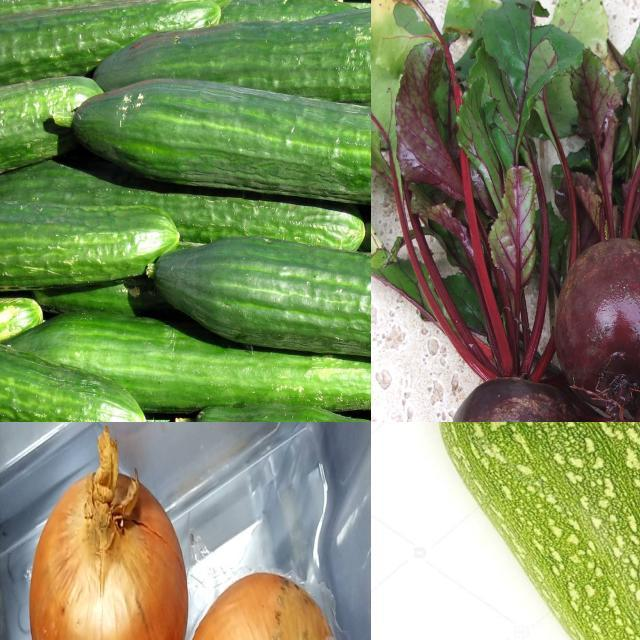beet: (550, 238, 640, 393), (449, 376, 575, 423)
cucumber: (65, 77, 372, 212), (151, 236, 372, 377), (90, 17, 372, 103), (1, 198, 185, 292), (1, 336, 147, 423)
onion: (30, 432, 186, 640)
zucchini: (440, 423, 640, 640)
